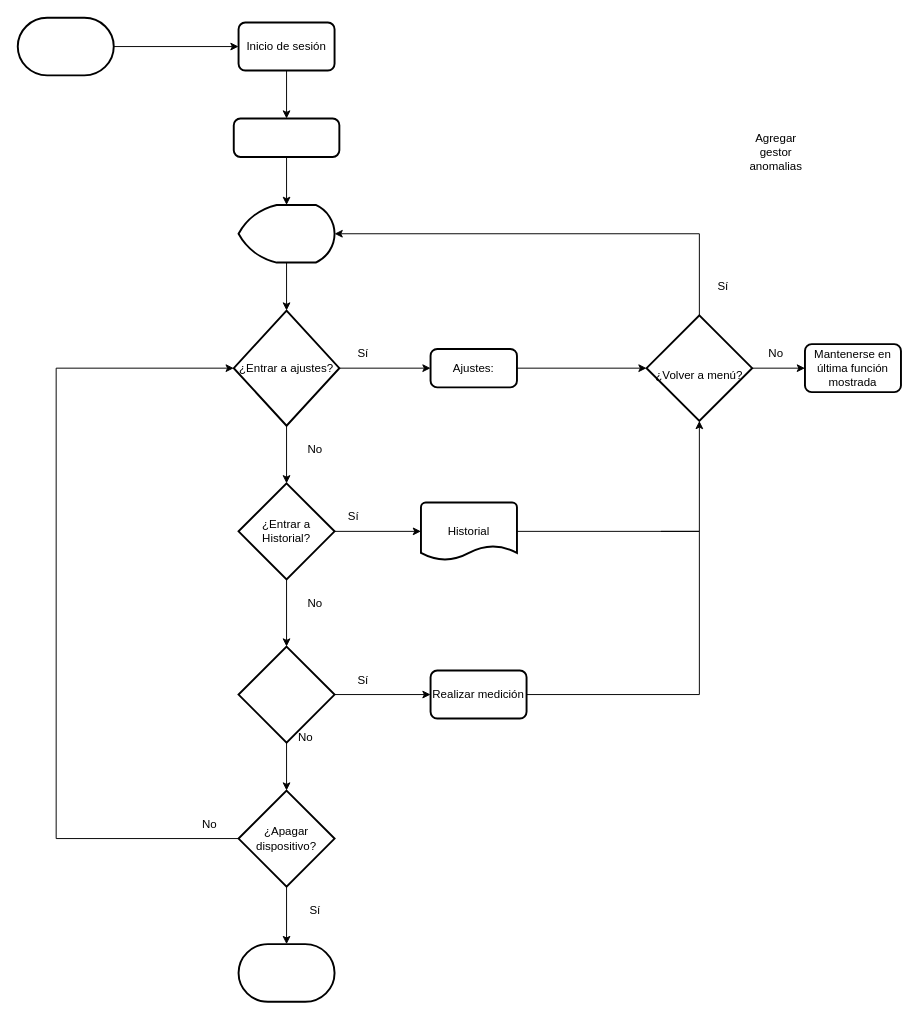
The diagram is 918 pixels wide and 1019 high, and some of its shapes have lost their labels. Here are the shapes that lost their labels. From the top down, the box of each, then its label:
(16, 16, 114, 76): Encendido del dispositivo
(232, 117, 340, 157): Selección de usuario
(237, 204, 335, 263): Menú
(237, 645, 335, 743): ¿Realizar una medición?
(237, 943, 335, 1002): Apagado del dispositivo
